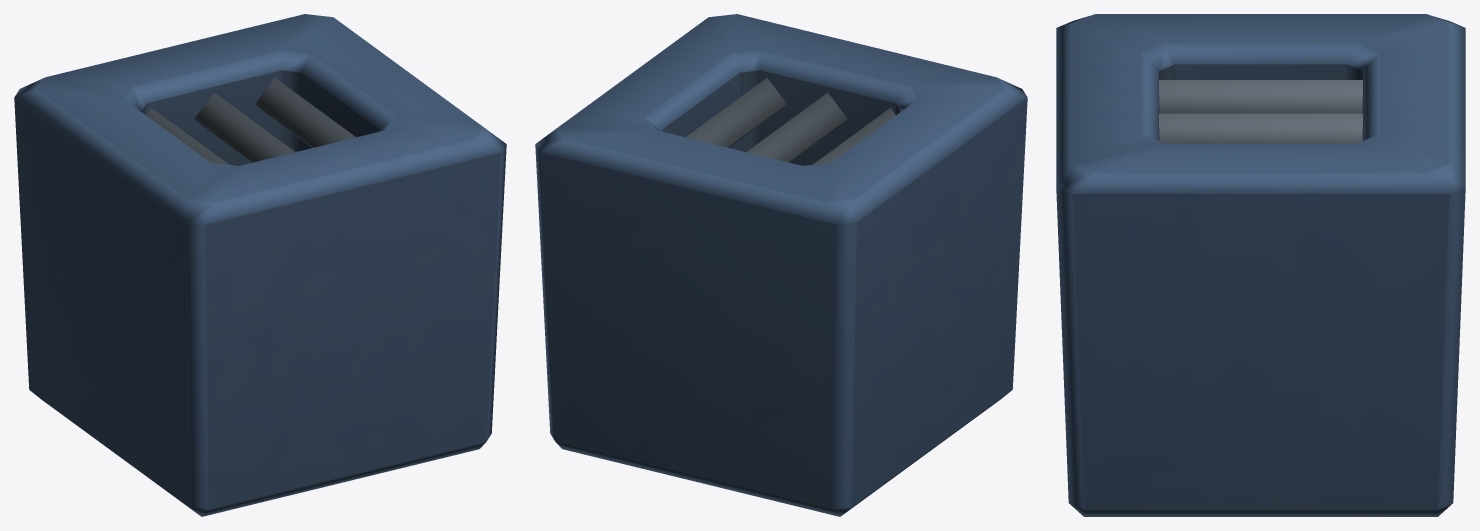
Rendered from grate_floor.fbx.
3 views of the same model, side by side, from view 1: azimuth 30°, elevation 25°; view 2: azimuth 150°, elevation 25°; view 3: azimuth 270°, elevation 25° (orthographic). The views are drawn at different scales.
Visible parts, largest first — view 1: grate_floor; view 2: grate_floor; view 3: grate_floor.
Part boxes in pixels (x1,y1,x2,y2): grate_floor: [14, 14, 506, 516]; grate_floor: [535, 14, 1027, 516]; grate_floor: [1056, 14, 1465, 516].
Bounding box in the file's own units: 213 × 200 × 213.
